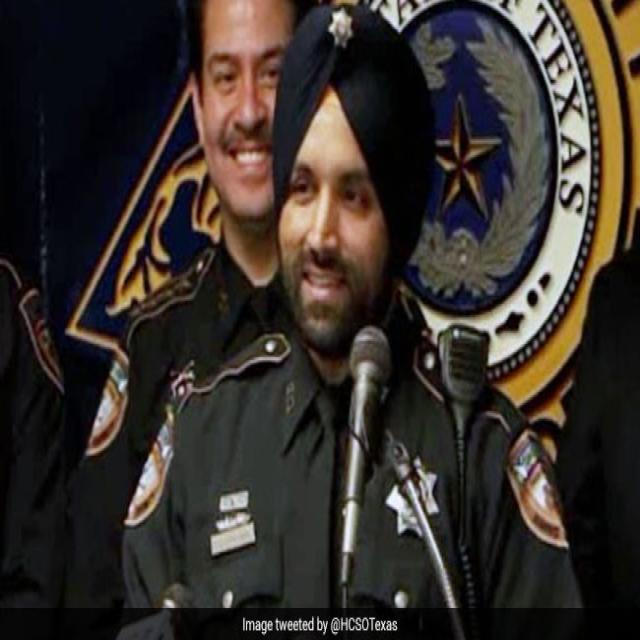police: (132, 0, 582, 640)
